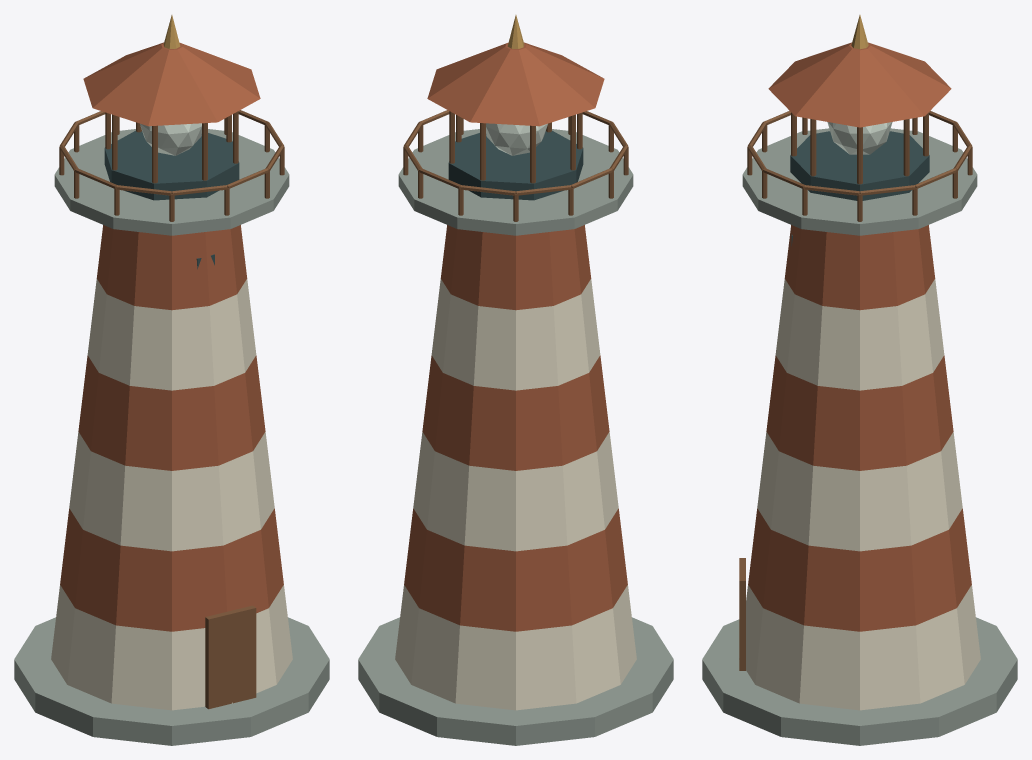
The model's file is mercusuar.glb.
The picture shows the model from 3 angles, left to right: view 1: azimuth 30°, elevation 25°; view 2: azimuth 150°, elevation 25°; view 3: azimuth 270°, elevation 25°; orthographic projection.
Parts seen in each view (by area): view 1: Mercusuar_Karang_Tirta; view 2: Mercusuar_Karang_Tirta; view 3: Mercusuar_Karang_Tirta.
Part boxes in pixels (x1,y1,x2,y2): Mercusuar_Karang_Tirta: (14,15,329,745); Mercusuar_Karang_Tirta: (358,15,673,745); Mercusuar_Karang_Tirta: (702,15,1017,745).
Bounding box in the file's own units: 8.6 × 20 × 8.6.
